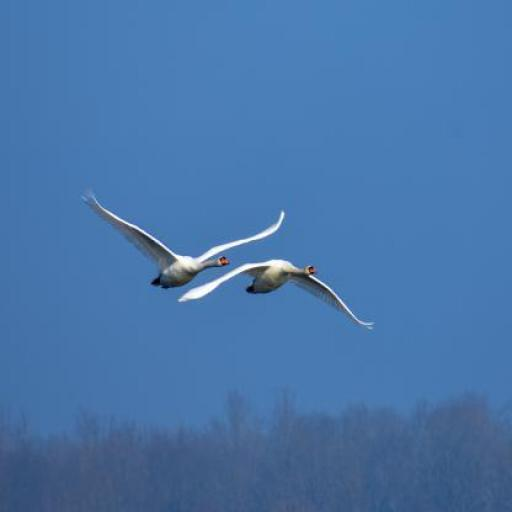bird: (79, 188, 286, 288), (179, 259, 374, 331)
